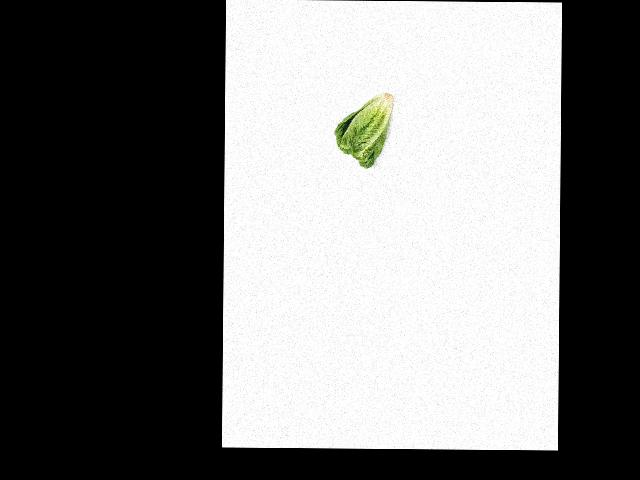lettuce: (335, 87, 395, 168)
